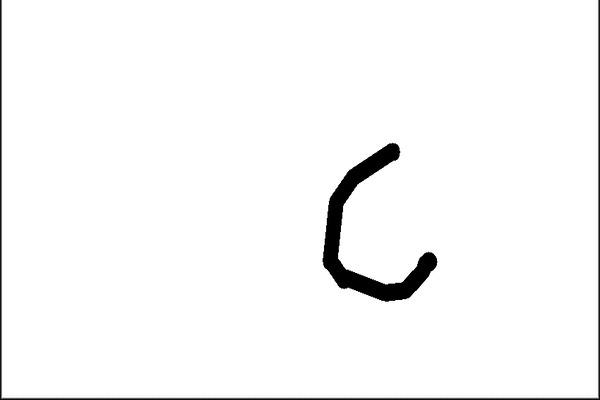C: (314, 139, 440, 306)
